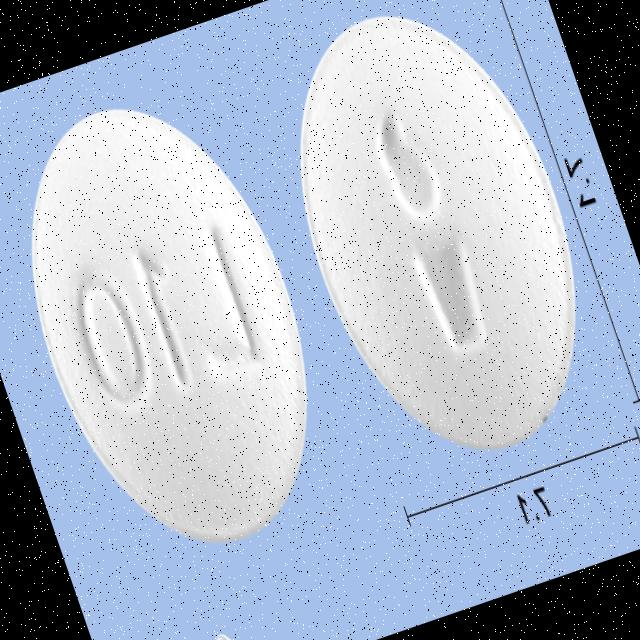Leflu - 20mg: (244, 0, 629, 485), (0, 65, 361, 581)
